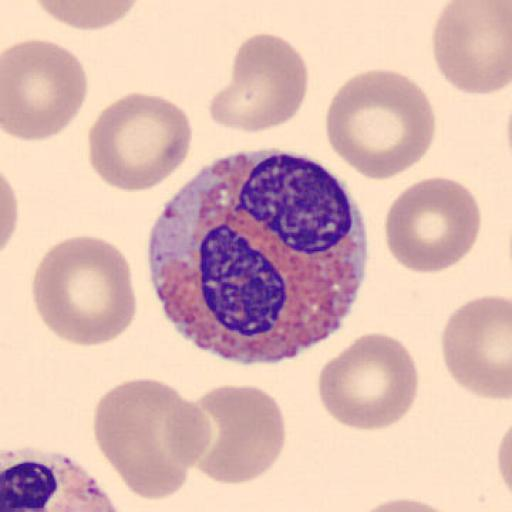RBC: (91, 375, 212, 502), (324, 68, 438, 180), (30, 234, 138, 347), (87, 91, 193, 193), (317, 330, 420, 433), (207, 32, 309, 134), (383, 174, 483, 274), (192, 383, 287, 484), (2, 36, 90, 142), (432, 0, 512, 96), (441, 293, 512, 401), (31, 0, 142, 32), (39, 474, 126, 512), (44, 484, 128, 512), (353, 495, 465, 512), (493, 413, 512, 511), (1, 167, 20, 250), (496, 421, 512, 500)
WBC: (143, 155, 370, 365), (0, 444, 128, 512)
